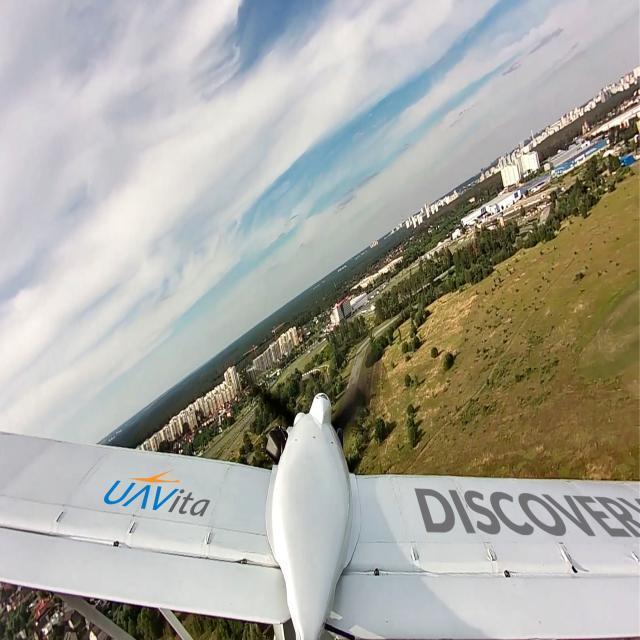iha: (4, 390, 640, 640)
